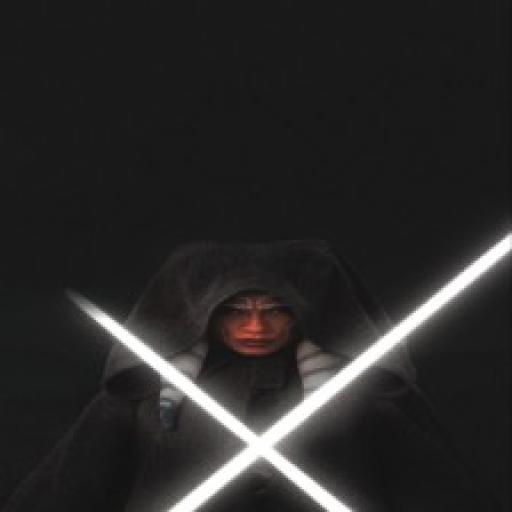lightsaber: (166, 232, 510, 512), (71, 296, 354, 512)
